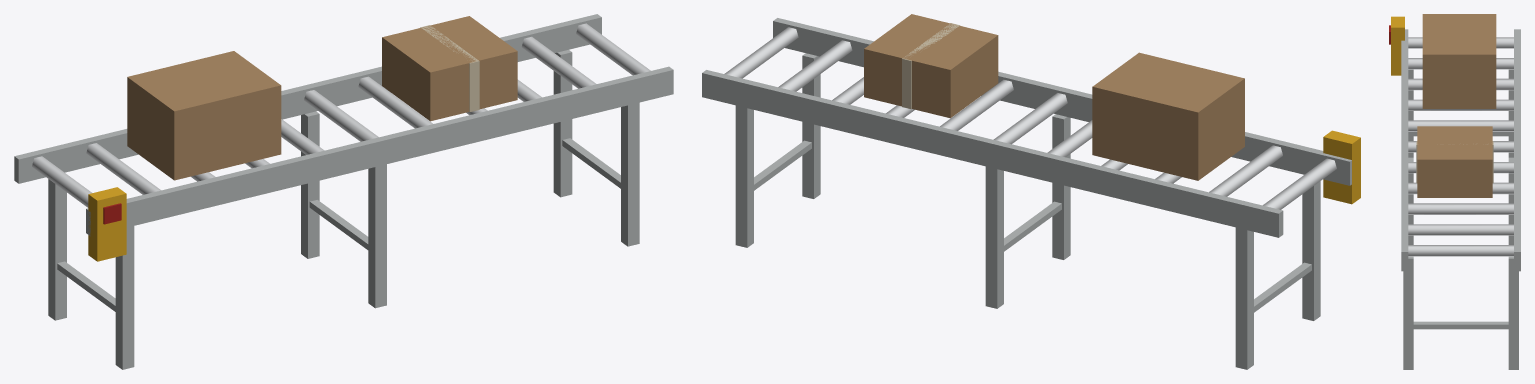
The model's file is conveyor.glb.
3 views of the same model, side by side, from view 1: azimuth 30°, elevation 25°; view 2: azimuth 150°, elevation 25°; view 3: azimuth 270°, elevation 25° (orthographic). The views are drawn at different scales.
Visible parts, largest first — view 1: conveyor; view 2: conveyor; view 3: conveyor.
Part boxes in pixels (x1,y1,x2,y2): conveyor: (14, 14, 673, 369); conveyor: (702, 14, 1360, 369); conveyor: (1389, 14, 1520, 369).
Bounding box in the file's own units: 3 × 1.15 × 0.75.
Materials: 1 (1 with a texture image).
